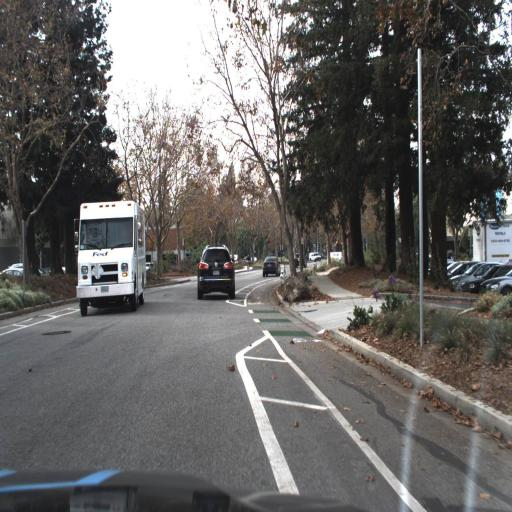car: (194, 242, 238, 300), (452, 270, 477, 290), (262, 254, 281, 278), (462, 275, 483, 291), (309, 249, 322, 262), (293, 253, 305, 267)
truck: (71, 199, 147, 323)
